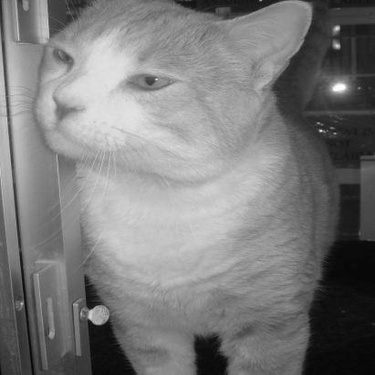cat: (34, 4, 339, 370)
